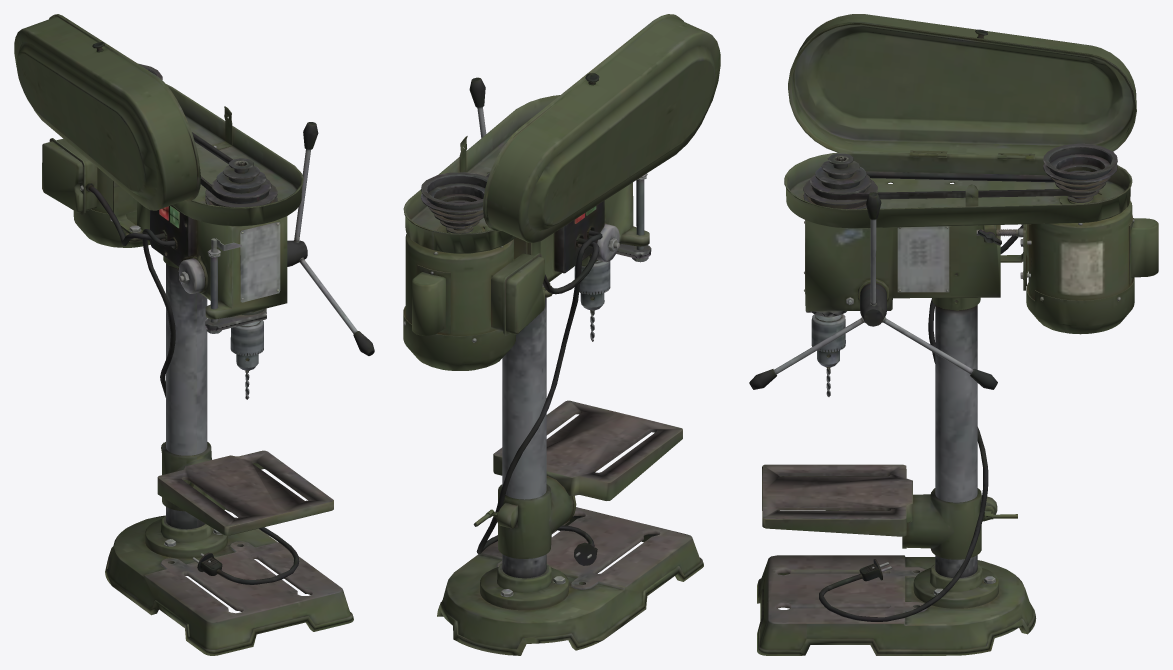
Rendered from drill_press_01.glb.
3 renders of one model, left to right at view 1: azimuth 30°, elevation 25°; view 2: azimuth 150°, elevation 25°; view 3: azimuth 270°, elevation 25°, orthographic. The views are drawn at different scales.
Visible parts, largest first — view 1: drill_press_01; view 2: drill_press_01; view 3: drill_press_01.
Boxes of the visible parts, left/top/right/bottom form: drill_press_01: left=14, top=14, right=374, bottom=655; drill_press_01: left=403, top=14, right=720, bottom=655; drill_press_01: left=749, top=14, right=1158, bottom=655.
Bounding box in the file's own units: 0.3539 × 0.9011 × 0.5982.
Materials: 1 (1 with a texture image).
